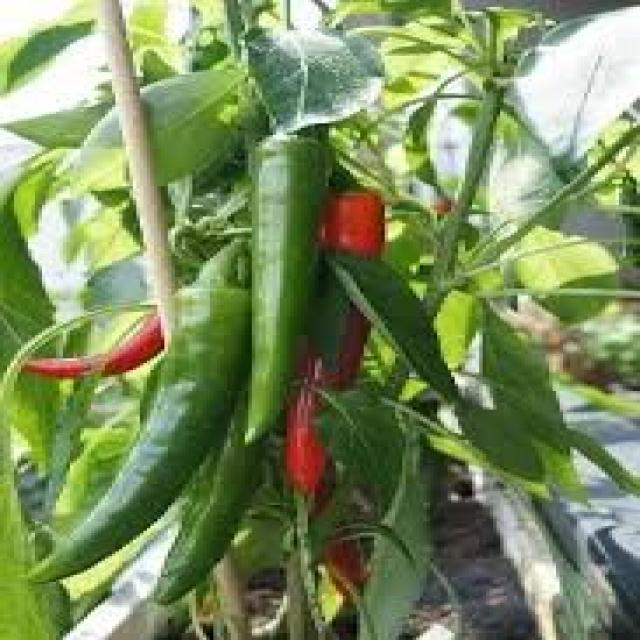sehat: (241, 27, 401, 140), (319, 394, 428, 510), (452, 412, 556, 490)
